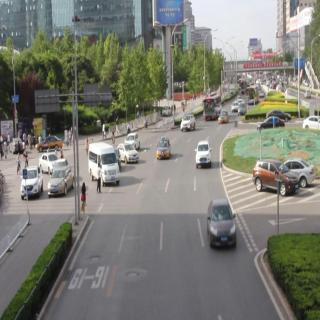Car: (246, 149, 294, 223), (88, 138, 122, 200), (204, 195, 241, 249), (279, 151, 314, 193), (19, 162, 46, 204), (47, 162, 70, 203), (116, 134, 138, 174), (150, 132, 176, 164), (193, 142, 218, 172), (299, 106, 320, 140), (259, 114, 283, 141), (178, 109, 200, 137), (202, 94, 220, 128), (244, 79, 263, 107), (126, 127, 147, 152), (37, 134, 65, 152), (266, 103, 288, 125), (39, 153, 58, 172), (238, 102, 252, 122), (217, 110, 232, 128), (232, 100, 242, 116)
